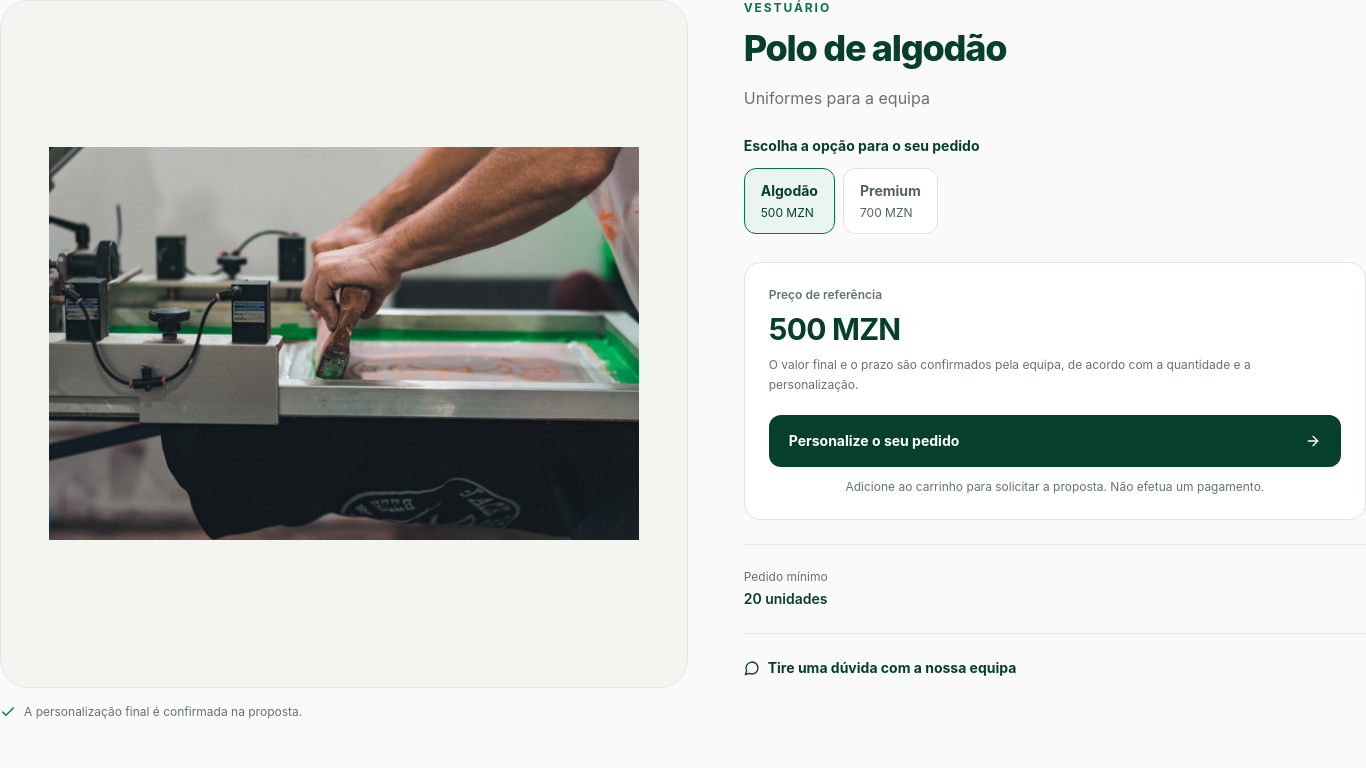
Scenario: Catalogue experience › selects a variant before opening personalization
Click the button "Premium 700 MZN" at (890, 201), box [843,168,938,234]
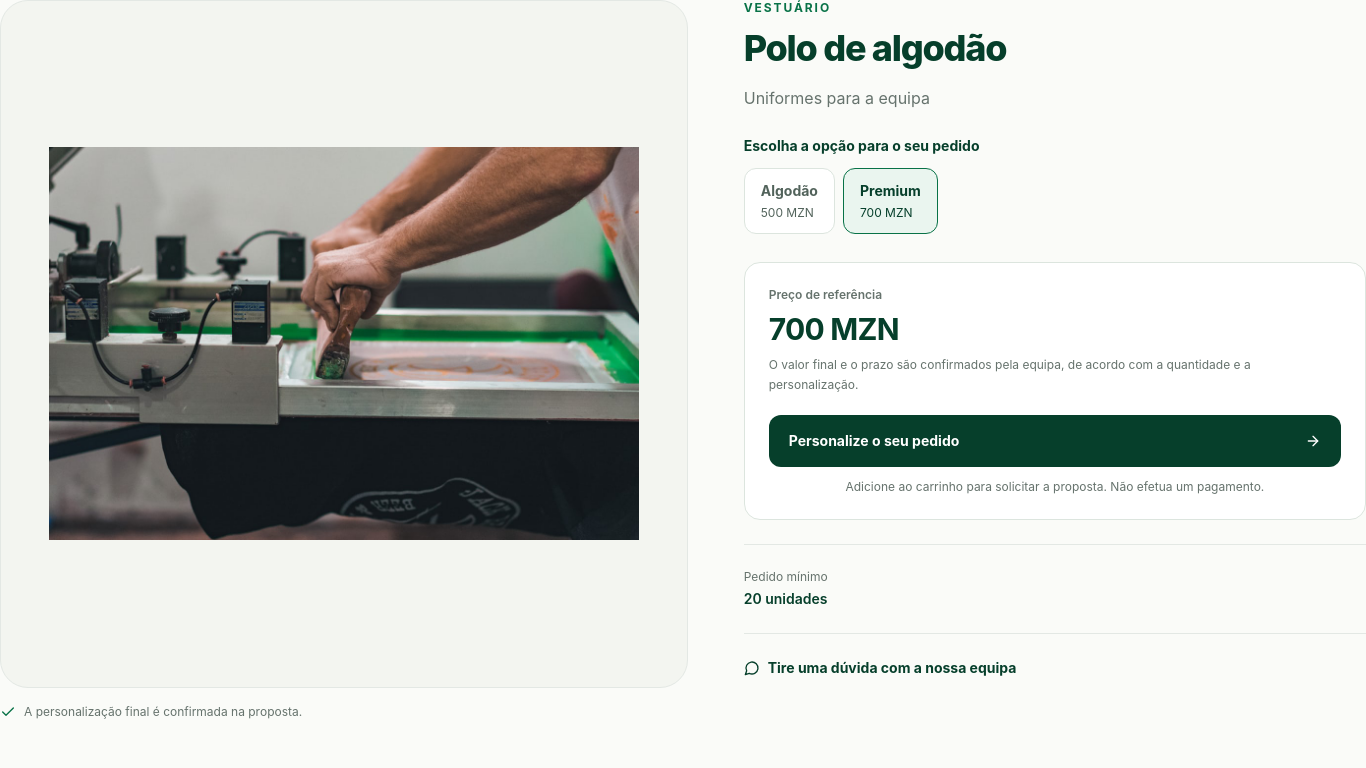
Now the button "Premium 700 MZN" is pressed, box [843,168,938,234]
Click the button "Personalize o seu pedido" at (874, 440), box [769,415,1341,467]
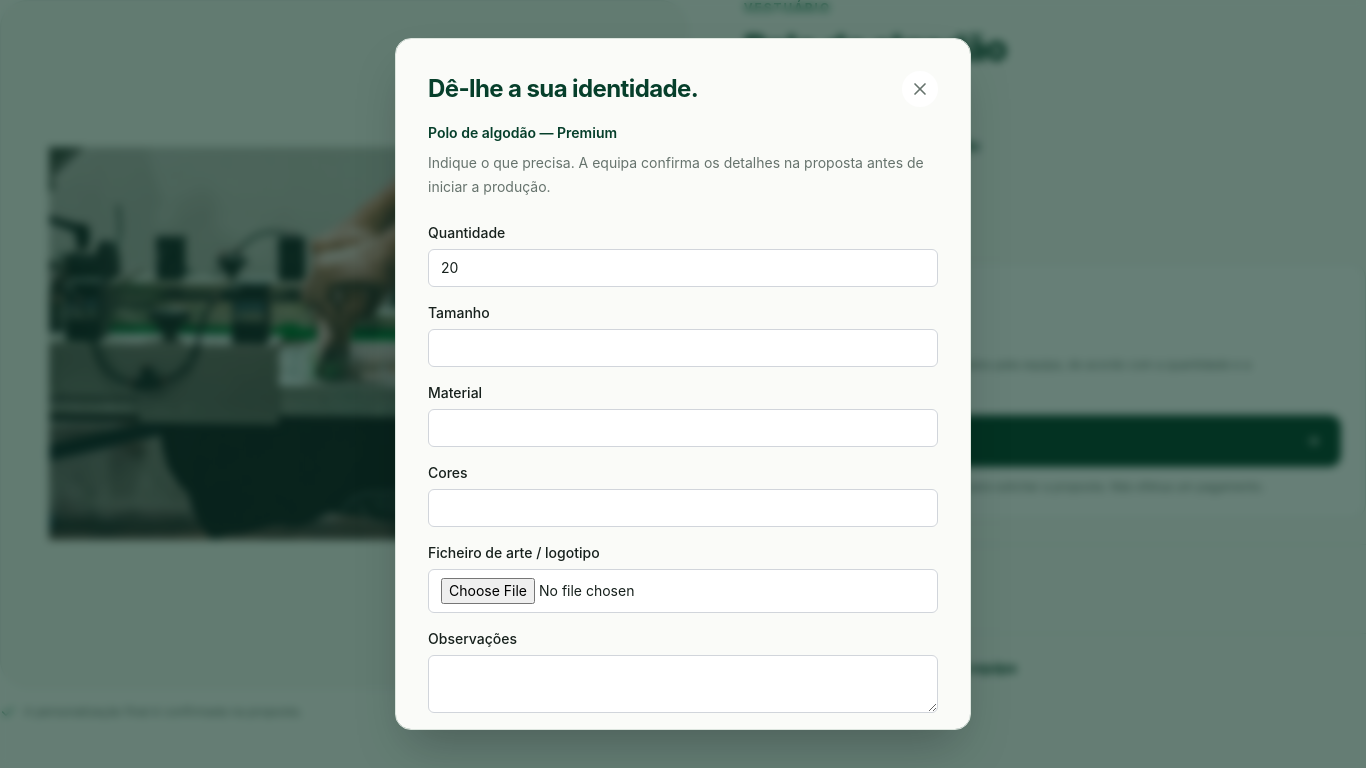
Now the dialog is shown, box [395,38,971,730]
